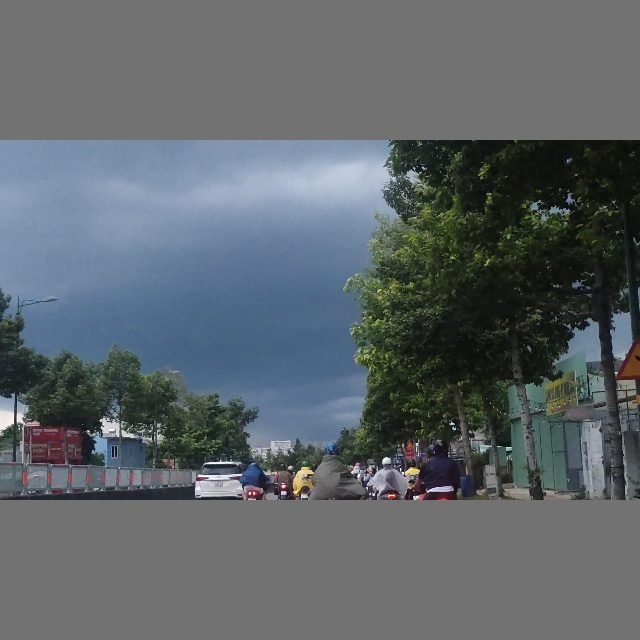W.201a: (616, 335, 640, 381)
